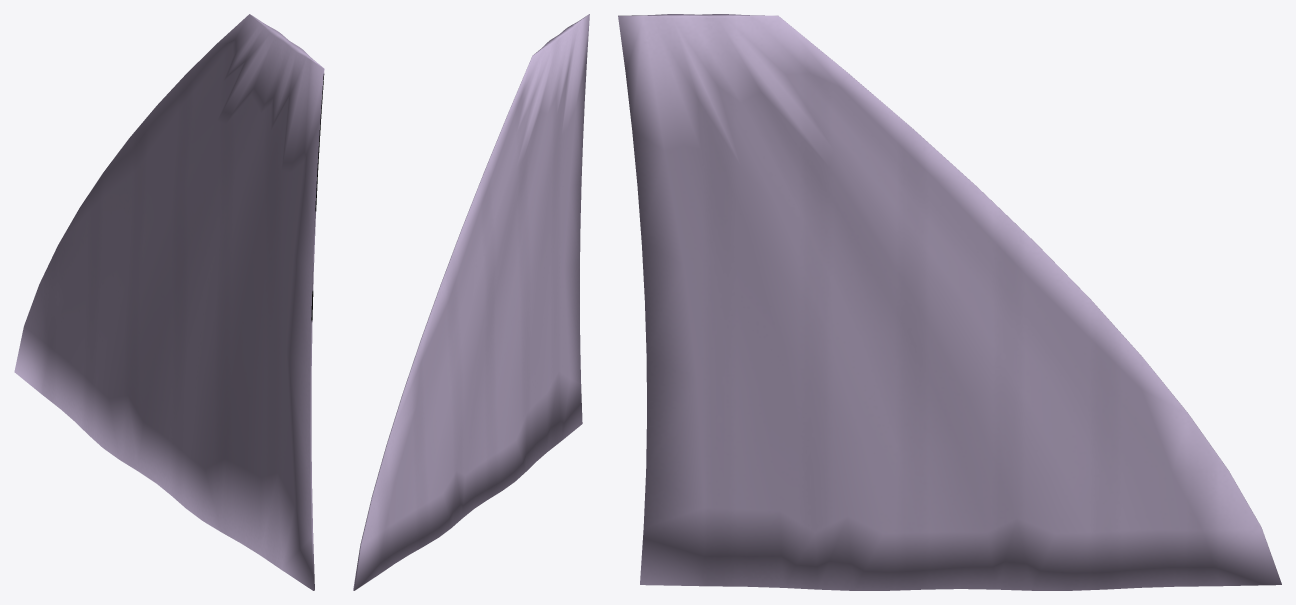
The model's file is cpart_fin.glb.
3 views of the same model, side by side, from view 1: azimuth 30°, elevation 25°; view 2: azimuth 150°, elevation 25°; view 3: azimuth 270°, elevation 25° (orthographic). The views are drawn at different scales.
Visible parts, largest first — view 1: Fin; view 2: Fin; view 3: Fin.
Part boxes in pixels (left/top/right/bottom): Fin: left=14, top=14, right=324, bottom=590; Fin: left=353, top=14, right=589, bottom=590; Fin: left=618, top=14, right=1281, bottom=590.
Bounding box in the file's own units: 0.0104 × 0.215 × 0.2275.
Materials: 1 (1 with a texture image).
